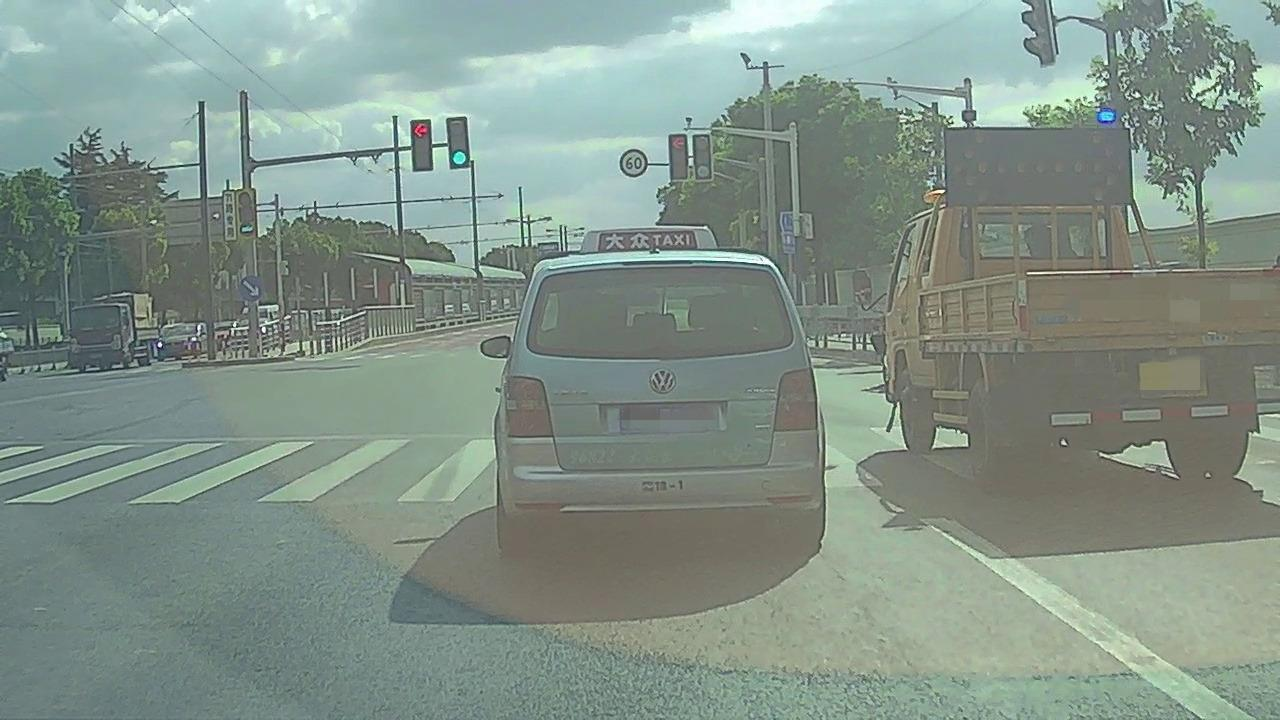traffic_light: (445, 117, 469, 168), (410, 120, 432, 171), (669, 135, 686, 179), (693, 135, 710, 179)
